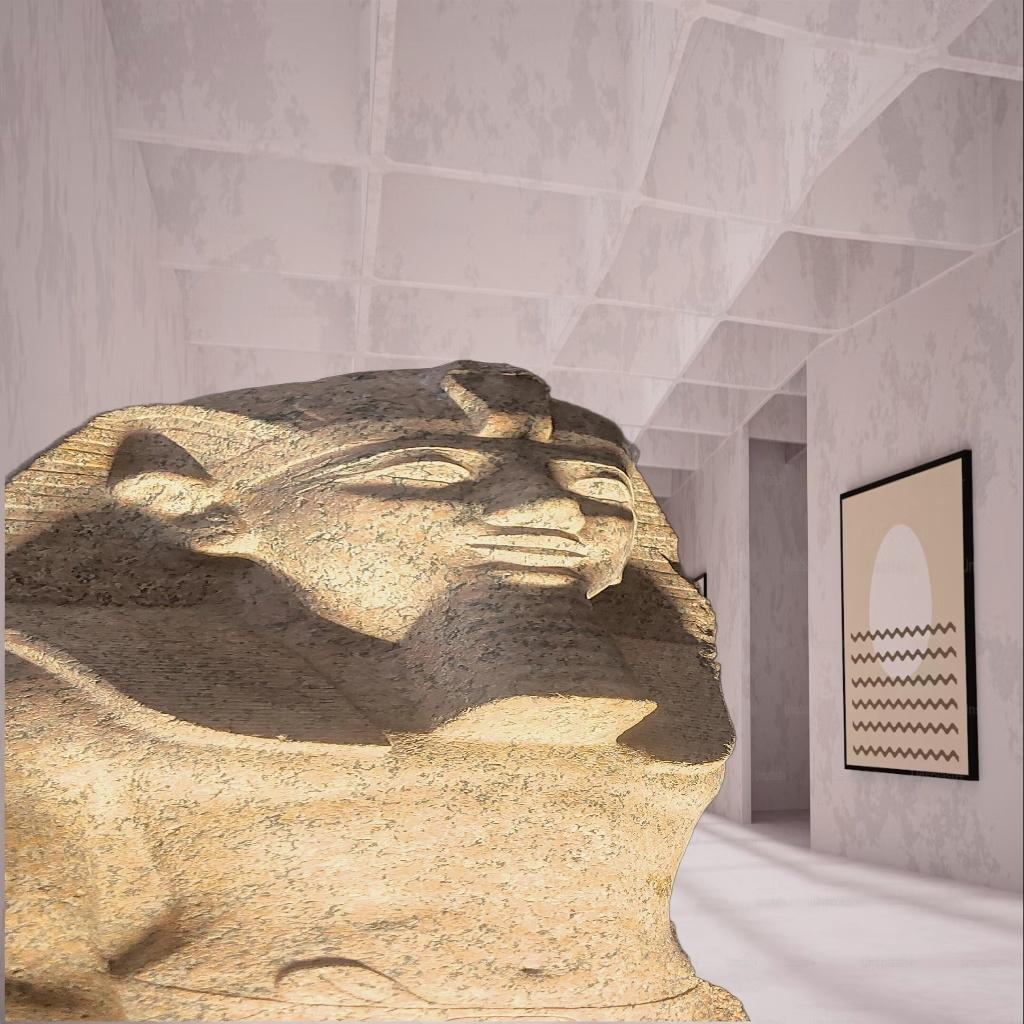Standing Statue of Thutmose III: (5, 358, 750, 1022)
